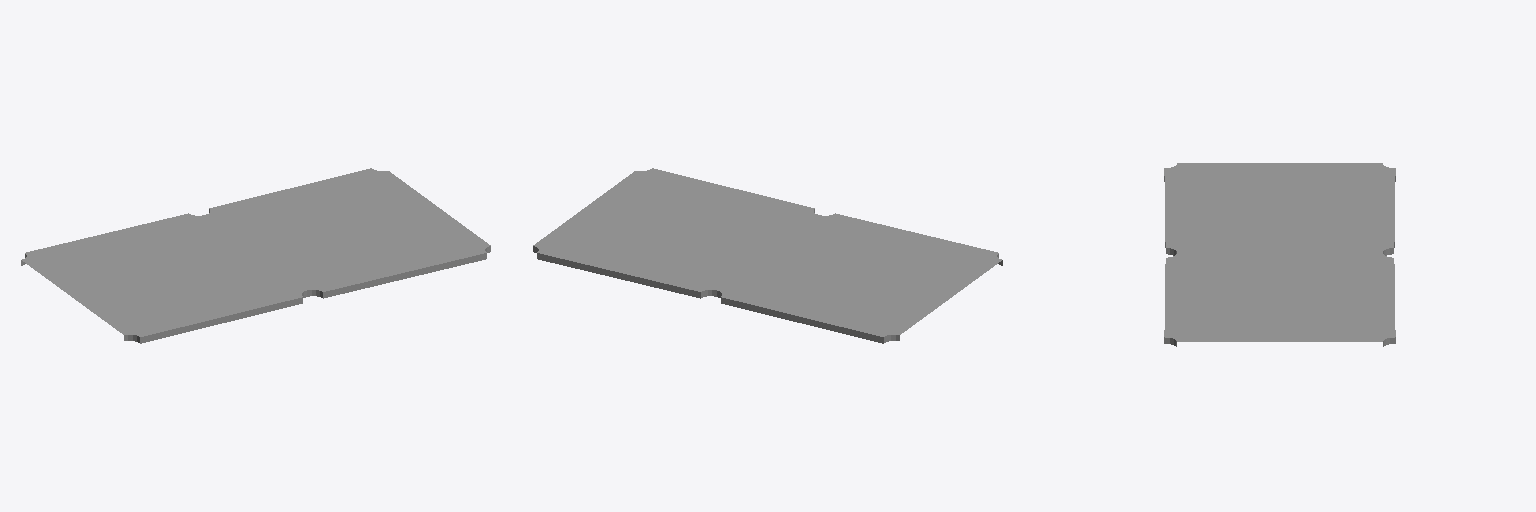
Rendered from table.obj.
3 renders of one model, left to right at view 1: azimuth 30°, elevation 25°; view 2: azimuth 150°, elevation 25°; view 3: azimuth 270°, elevation 25°, orthographic.
Parts seen in each view (by area): view 1: Plane; view 2: Plane; view 3: Plane.
Part boxes in pixels (x1,y1,x2,y2): Plane: (21,168,490,343); Plane: (533,168,1002,343); Plane: (1164,163,1395,346).
Size of the model in its own units: 8.54 by 0.1422 by 4.66.